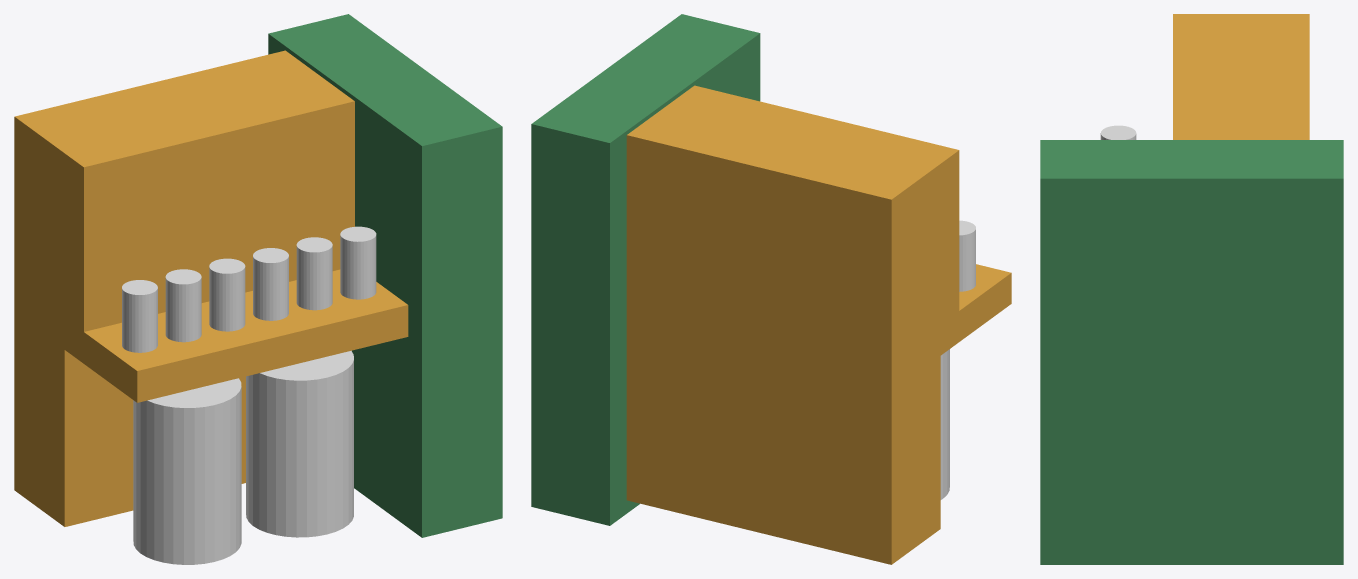
Rendered from spinning machine.glb.
3 renders of one model, left to right at view 1: azimuth 30°, elevation 25°; view 2: azimuth 150°, elevation 25°; view 3: azimuth 270°, elevation 25°, orthographic. The views are drawn at different scales.
Parts seen in each view (by area): view 1: 立方体, Cube, 円柱, 円柱.001; view 2: 立方体, Cube, 円柱, 円柱.001; view 3: Cube, 立方体, 円柱.001.
Part boxes in pixels (x1,y1,x2,y2): 立方体: (14, 50, 408, 526); Cube: (268, 14, 502, 537); 円柱: (133, 350, 353, 564); 円柱.001: (122, 226, 376, 352); 立方体: (626, 85, 1011, 564); Cube: (531, 14, 760, 525); 円柱: (940, 349, 949, 499); 円柱.001: (959, 220, 975, 291); Cube: (1040, 140, 1343, 564); 立方体: (1173, 14, 1309, 139); 円柱.001: (1100, 125, 1136, 139).
Size of the model in its own units: 1.31 by 1.39 by 0.992.
